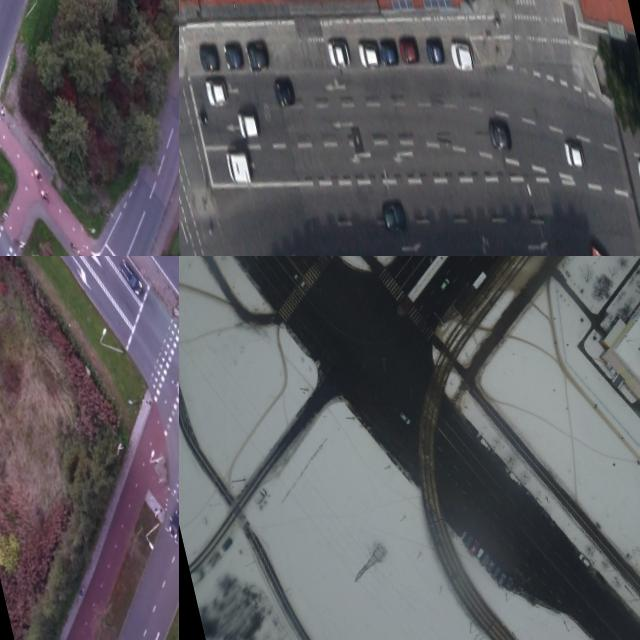UAI: (116, 256, 145, 299), (485, 114, 513, 153), (448, 37, 476, 74), (380, 198, 407, 232), (244, 38, 271, 72), (562, 137, 586, 172), (197, 40, 222, 73), (271, 75, 296, 107), (326, 39, 351, 70), (423, 34, 446, 66), (222, 40, 244, 73), (204, 77, 229, 106), (235, 109, 259, 139), (397, 34, 420, 64), (378, 37, 400, 67), (357, 40, 380, 68), (163, 506, 179, 540), (588, 239, 617, 256), (508, 469, 524, 491), (520, 486, 535, 505), (537, 504, 552, 523), (478, 435, 492, 454), (578, 551, 591, 568), (478, 552, 492, 567), (483, 559, 497, 574), (489, 565, 503, 580), (438, 277, 452, 292), (468, 539, 481, 555), (502, 575, 515, 591), (398, 410, 411, 426), (293, 272, 306, 288), (462, 534, 475, 549), (495, 572, 508, 587), (474, 546, 486, 560)
harvester: (223, 147, 252, 188)
